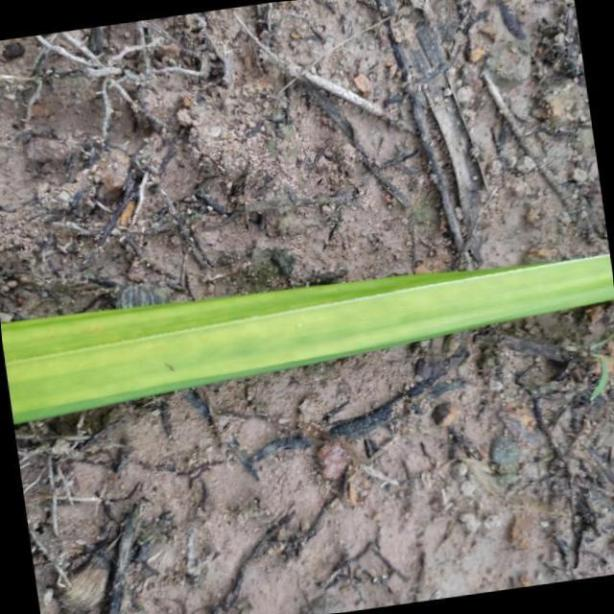nitrogen: (0, 248, 614, 427)
